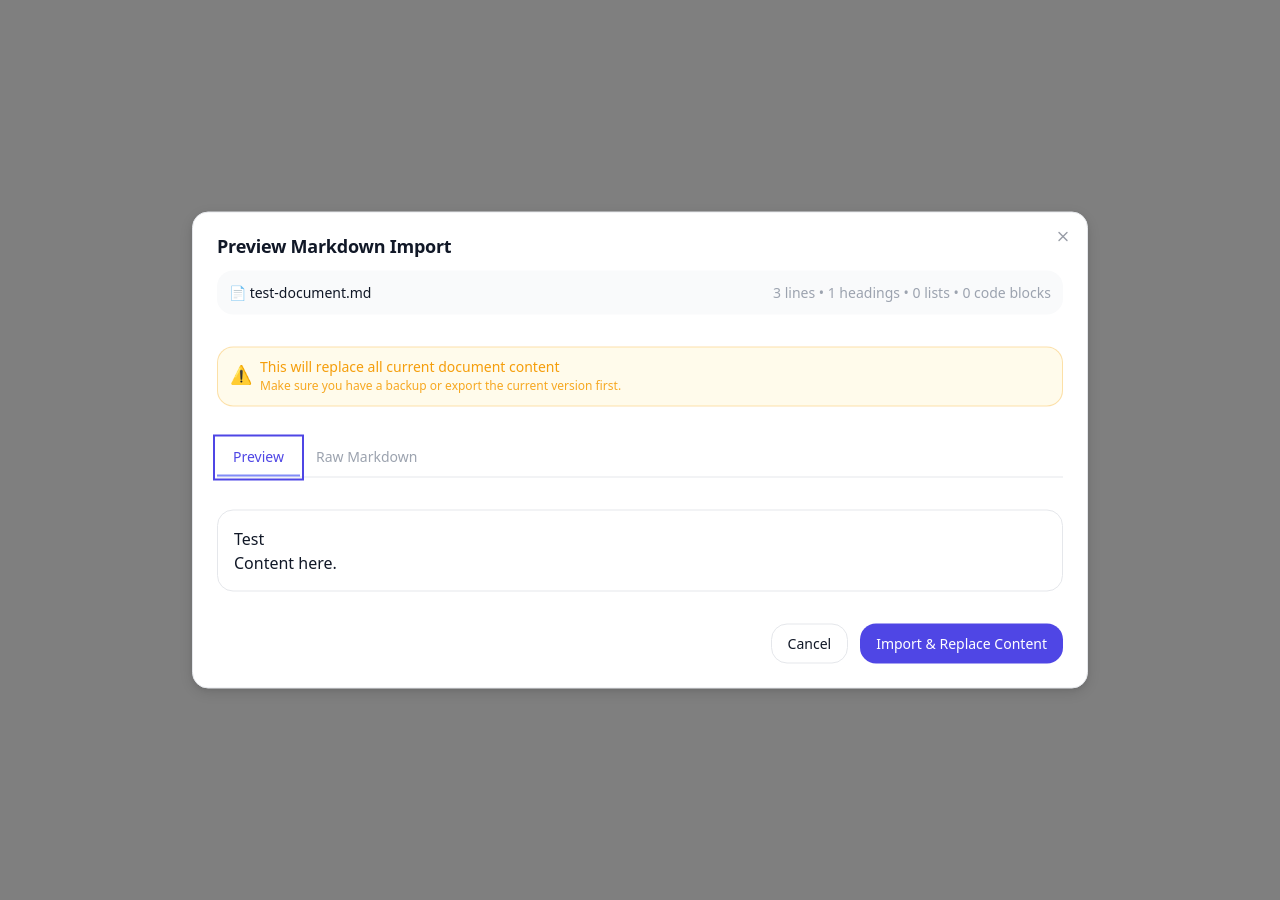
Test case: MarkdownPreviewModal › should display raw markdown in Raw tab
Switch to Raw tab
Click the button "Raw Markdown" at (367, 458), box [300, 438, 433, 476]
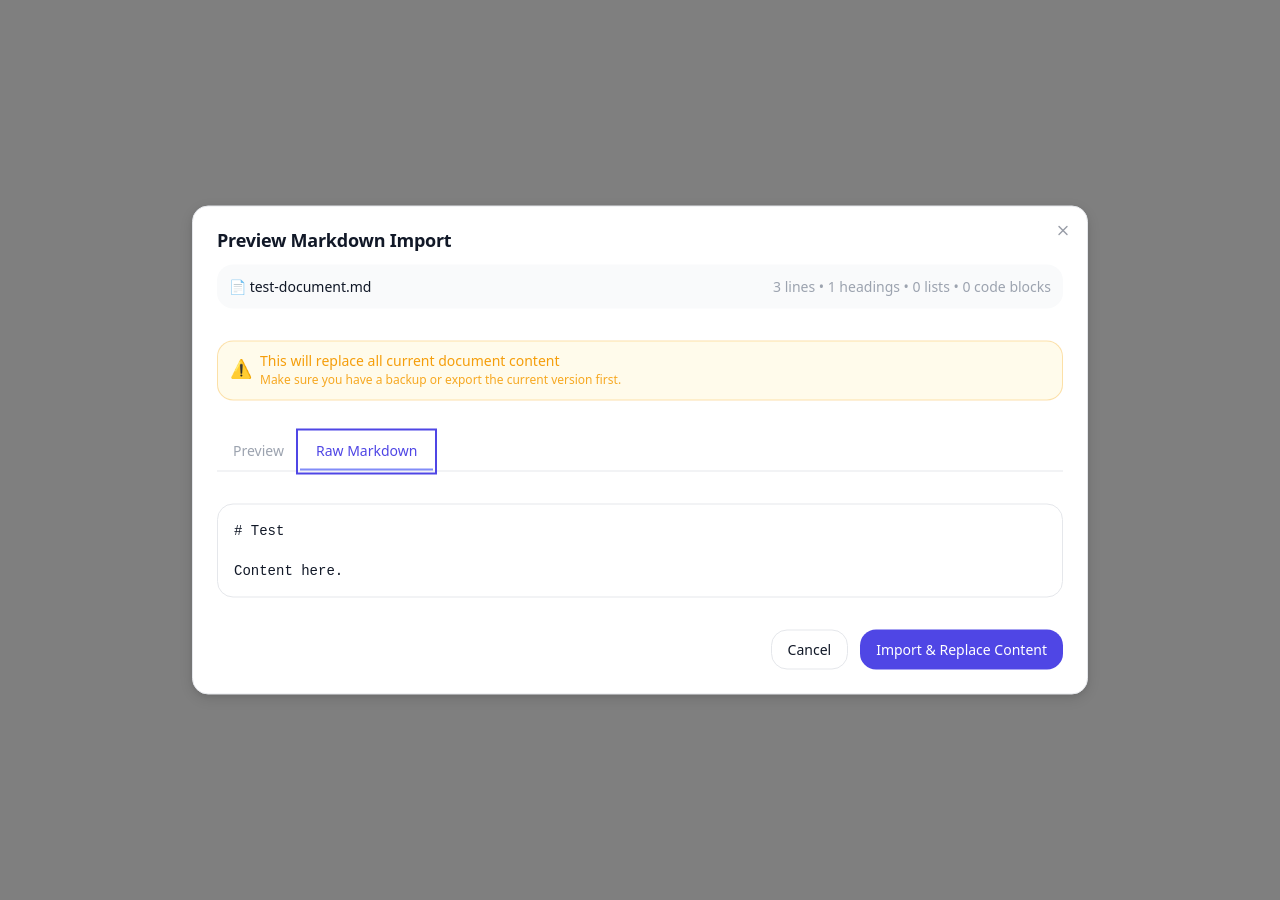
Check: the text "# Test Content here." is shown, box [234, 522, 343, 578]
